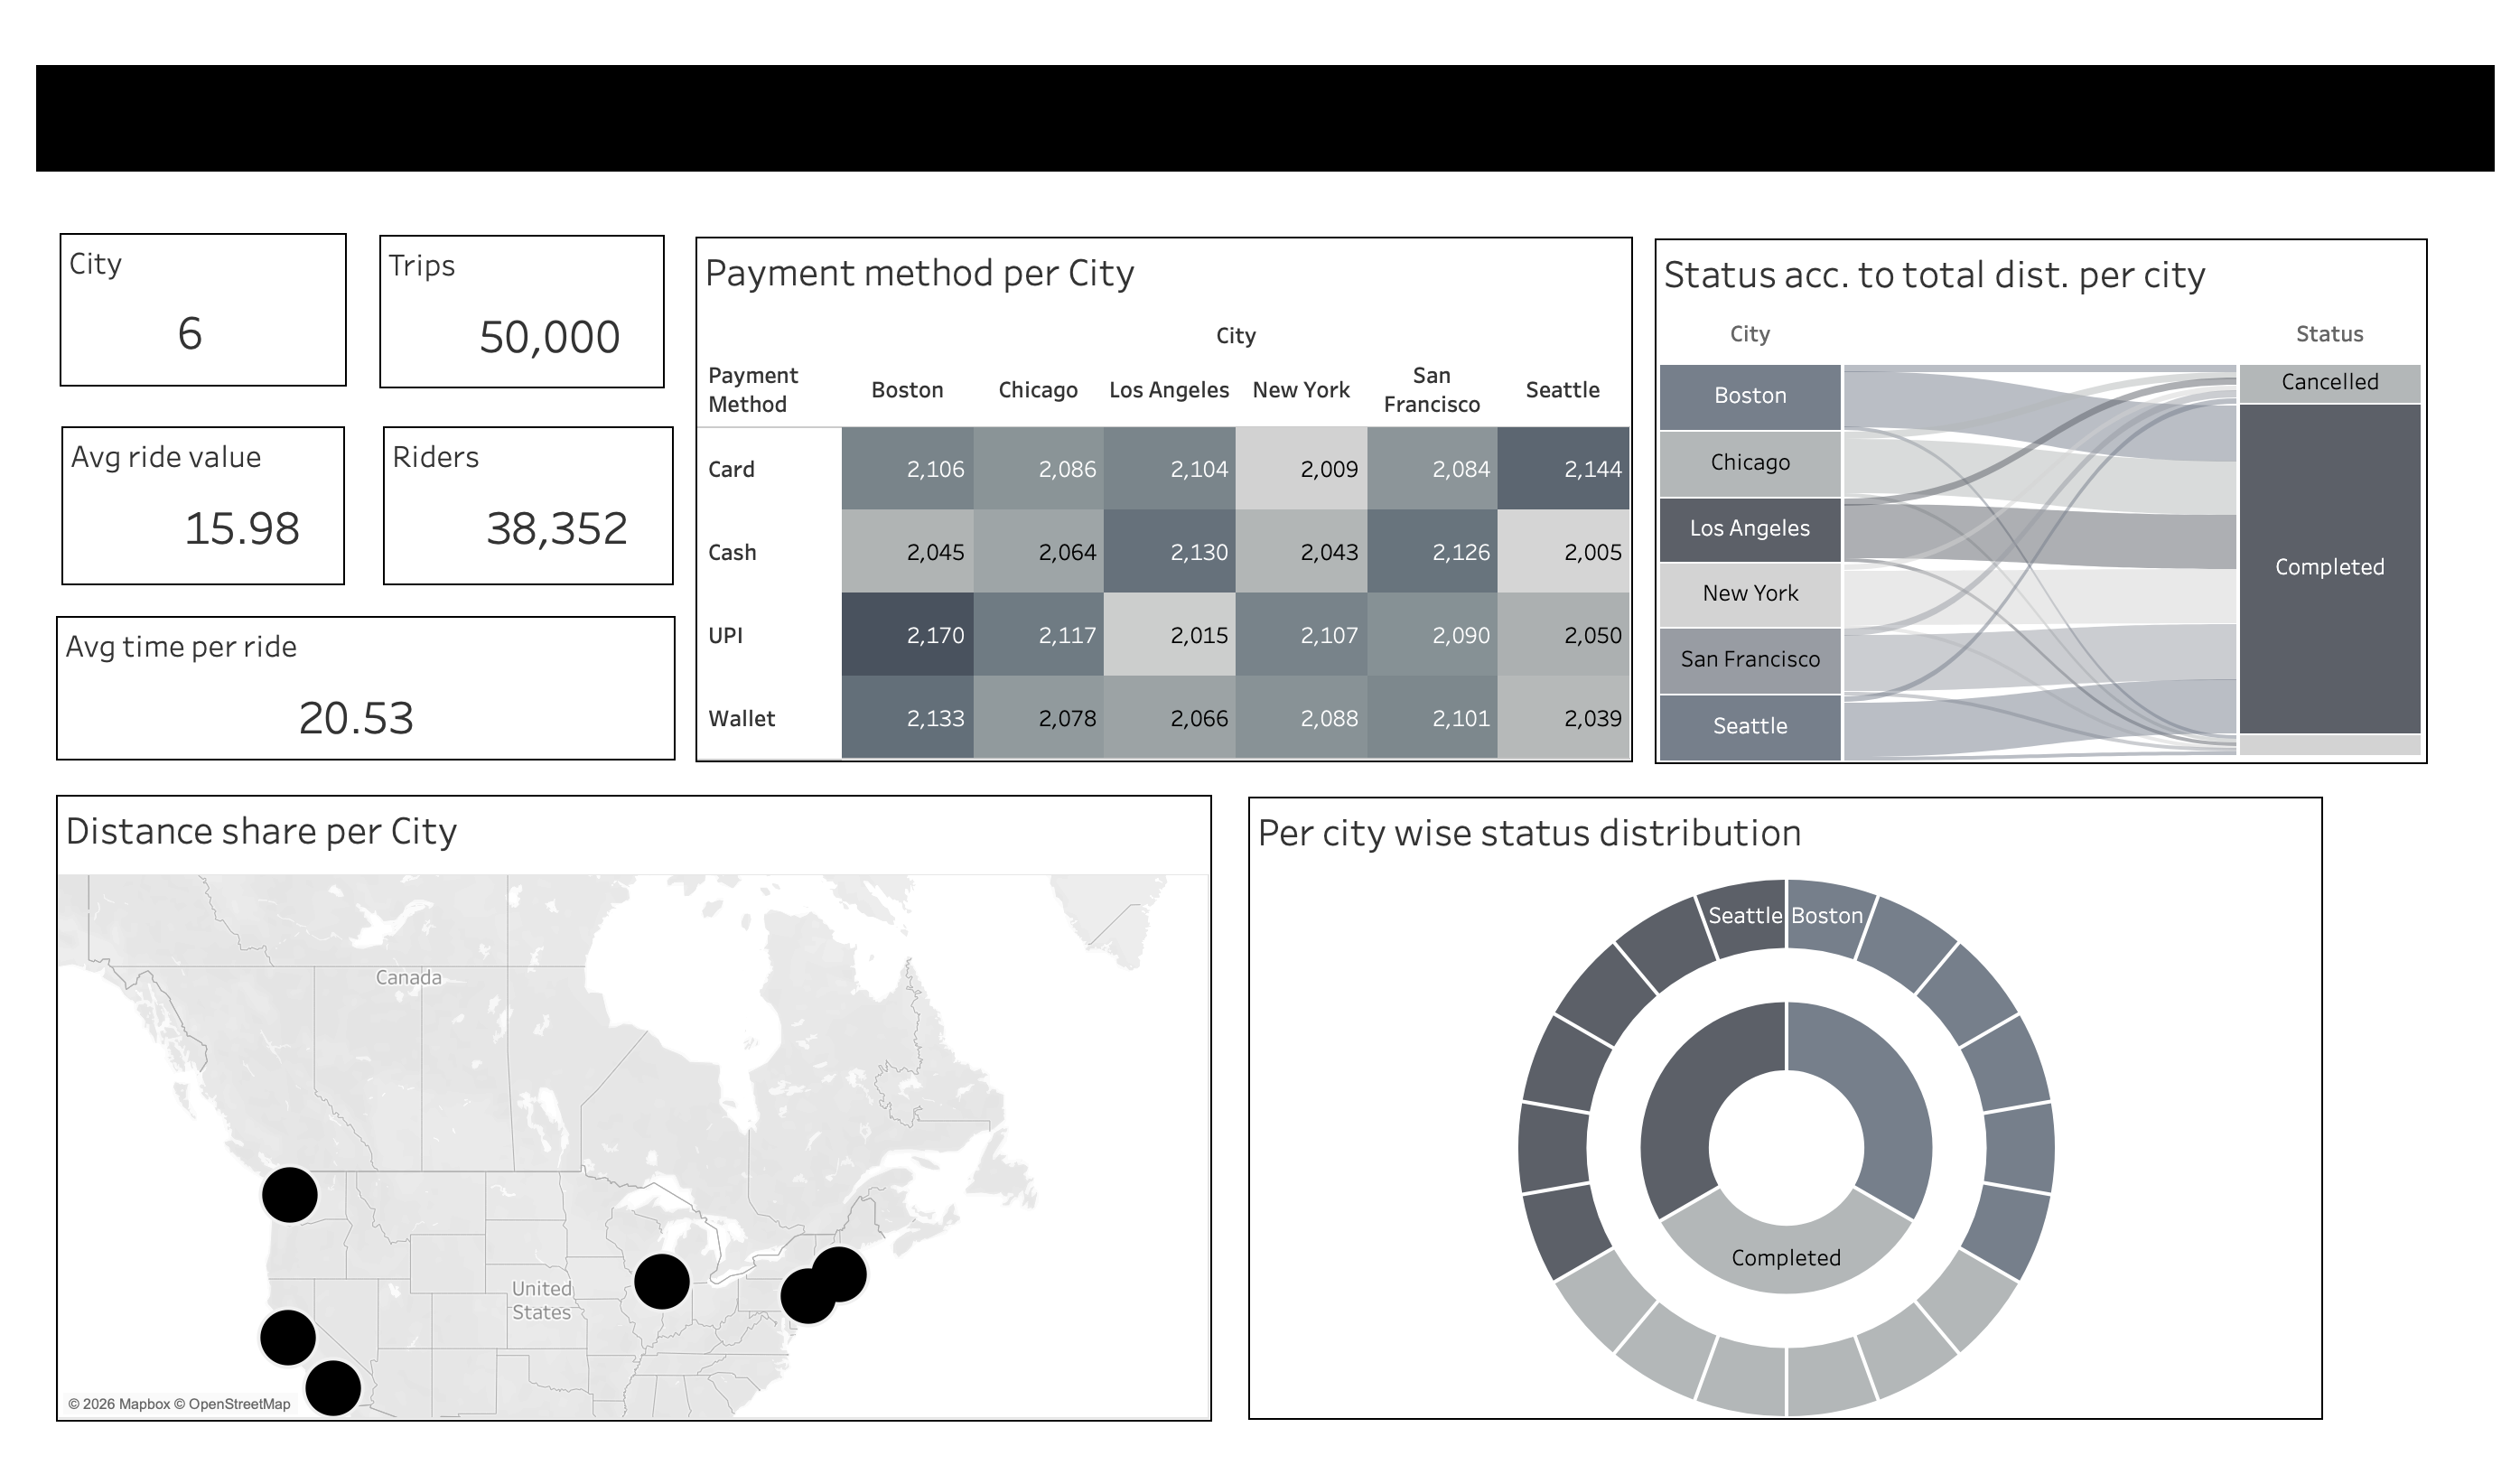

What the dashboard file says about the page in this screenshot:
{"tool":"tableau","page":{"name":"Dashboard 2","canvas":[1366,768],"ordinal":1},"visuals":[{"type":"image","param":"/Users/harshita/Desktop/uber/Screenshot 2026-03-15 at 1.22.16 PM.png","box":[10,10,1361,59]},{"type":"worksheet","title":"Sheet 2","mark":"Automatic","box":[23,103,159,85]},{"type":"worksheet","title":"Sheet 3","mark":"Automatic","box":[200,104,158,85]},{"type":"worksheet","title":"Sheet 13","mark":"Square","rows":["payment_method"],"cols":["city"],"box":[375,105,519,291]},{"type":"worksheet","title":"Sheet 15","box":[906,106,428,291]},{"type":"worksheet","title":"Sheet 5","mark":"Automatic","box":[24,210,157,88]},{"type":"worksheet","title":"Sheet 4","mark":"Automatic","box":[202,210,161,88]},{"type":"worksheet","title":"Sheet 7","mark":"Automatic","box":[21,315,343,80]},{"type":"worksheet","title":"Sheet 12","mark":"Automatic","box":[21,414,640,347]},{"type":"worksheet","title":"Sheet 14","box":[681,415,595,345]}]}

Visuals, with their boxes in screenshot pixels (x1, y1, x2, y2):
image: bbox(24, 58, 2501, 165)
"Sheet 2" worksheet: bbox(49, 227, 338, 381)
"Sheet 3" worksheet: bbox(370, 229, 658, 383)
"Sheet 13" worksheet (Square marks): bbox(689, 230, 1633, 760)
"Sheet 15" worksheet: bbox(1655, 232, 2433, 761)
"Sheet 5" worksheet: bbox(51, 422, 336, 582)
"Sheet 4" worksheet: bbox(374, 422, 667, 582)
"Sheet 7" worksheet: bbox(45, 612, 668, 758)
"Sheet 12" worksheet: bbox(45, 792, 1209, 1423)
"Sheet 14" worksheet: bbox(1246, 794, 2328, 1422)
